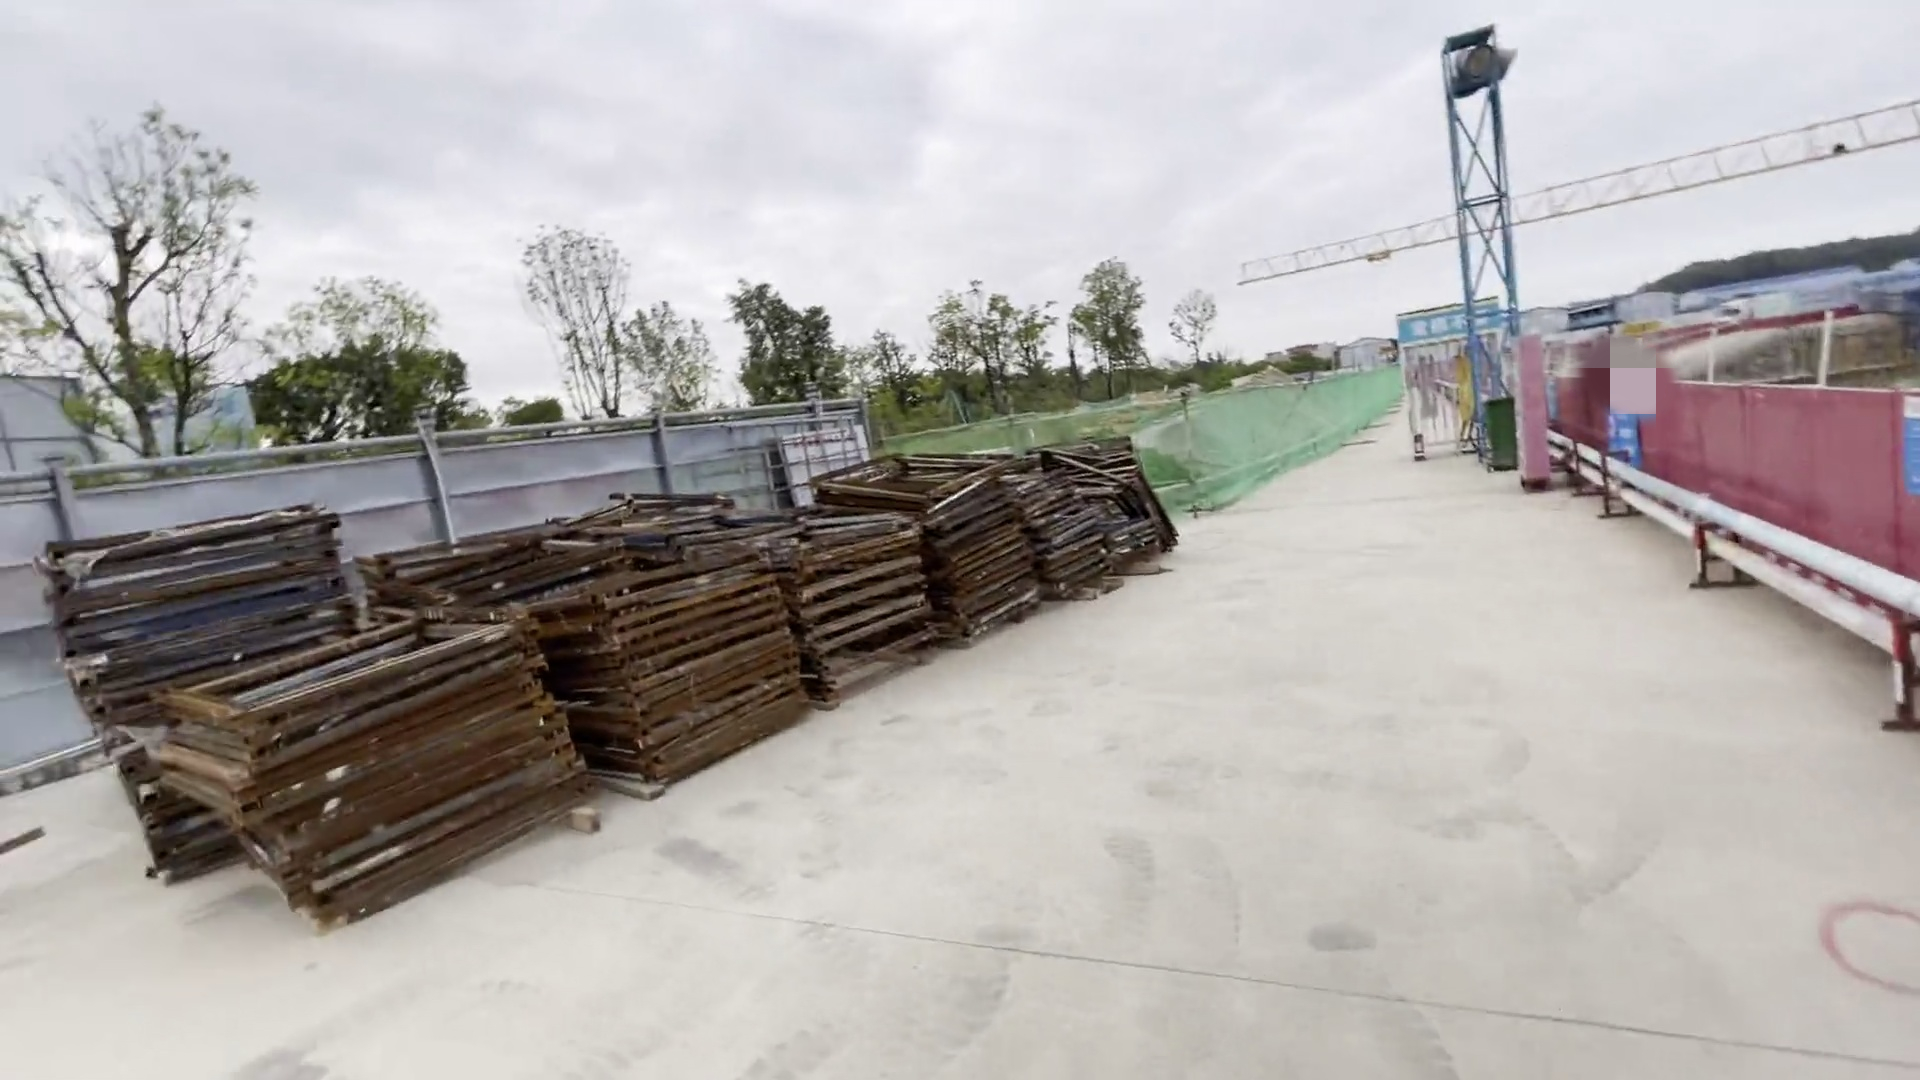ebox: (1443, 351, 1484, 448)
fence: (1567, 371, 1883, 572)
slogan: (1396, 301, 1534, 368), (1593, 396, 1646, 473)
